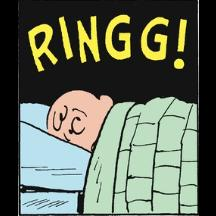charlie: (43, 88, 117, 155)
